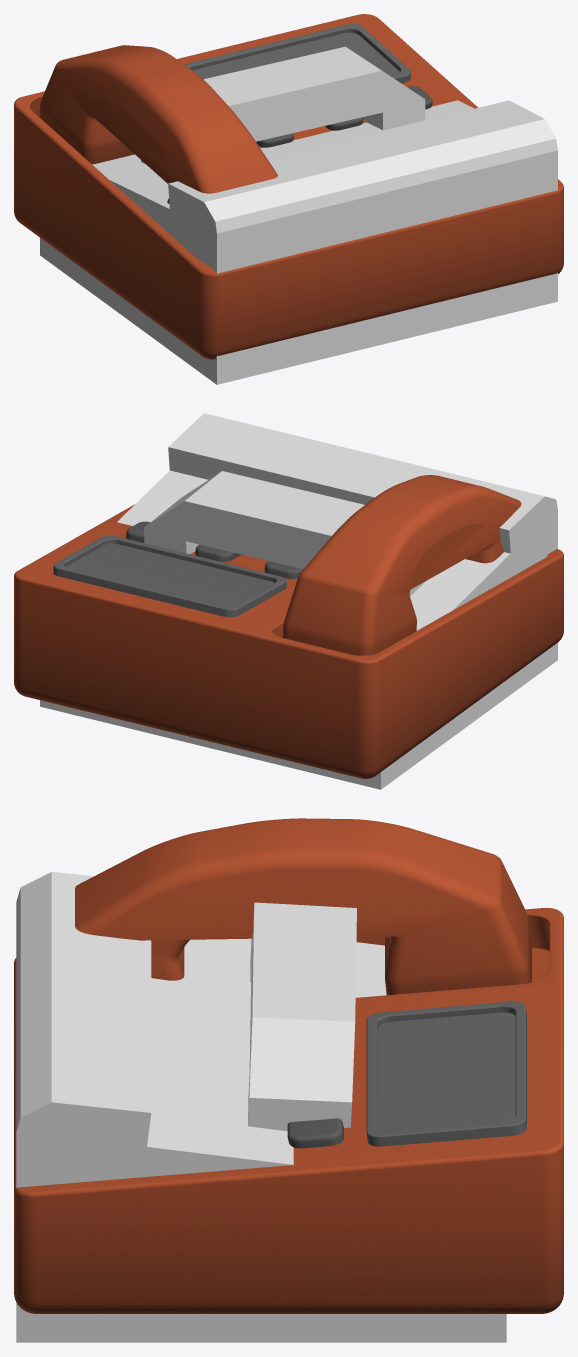
File: phone.fbx
3 renders of one model, top to bottom at view 1: azimuth 30°, elevation 25°; view 2: azimuth 150°, elevation 25°; view 3: azimuth 270°, elevation 25°, orthographic. The views are drawn at different scales.
Parts seen in each view (by area): view 1: Phone2, Cube.002, Cube.001; view 2: Cube.002, Phone2, Cube.001; view 3: Cube.002, Phone2, Cube.001.
Boxes of the visible parts, x1,y1,x2,y2 form: Phone2: [40, 46, 557, 384]; Cube.002: [14, 14, 563, 359]; Cube.001: [39, 45, 277, 203]; Cube.002: [14, 504, 563, 778]; Phone2: [40, 413, 557, 789]; Cube.001: [282, 475, 521, 655]; Cube.002: [14, 908, 563, 1313]; Phone2: [16, 872, 506, 1342]; Cube.001: [75, 818, 531, 995].
Bounding box in the file's own units: 38.59 × 22.76 × 36.49.
1 material, 1 textured.
